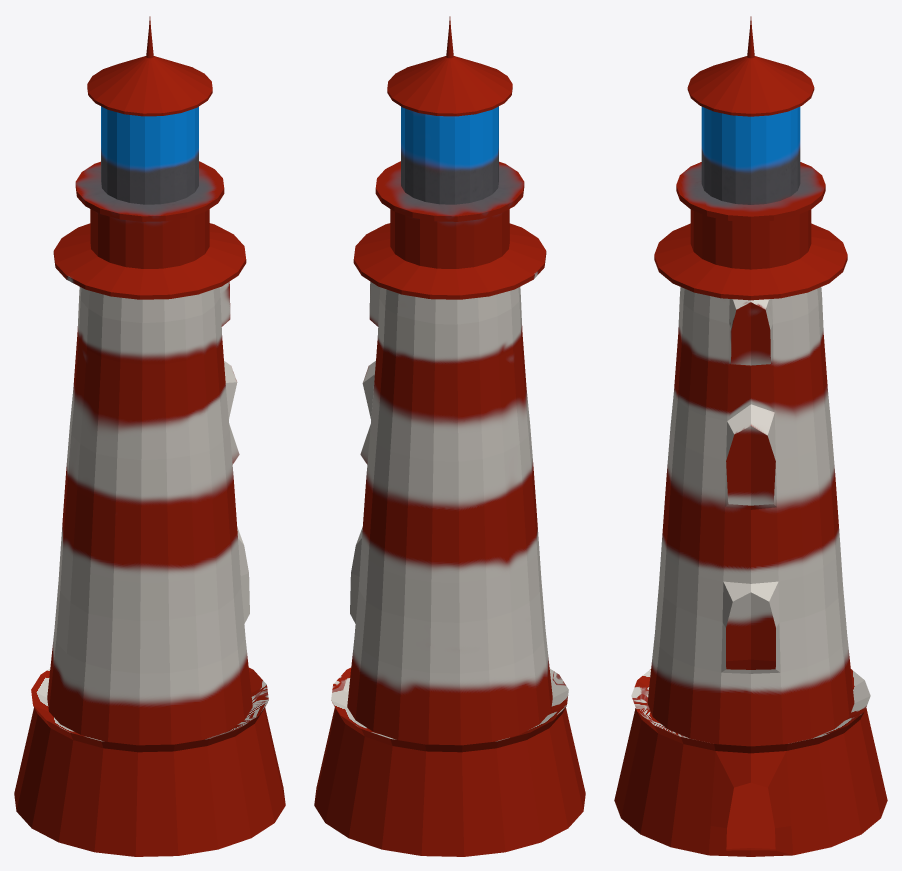
Rendered from faro.obj.
3 renders of one model, left to right at view 1: azimuth 30°, elevation 25°; view 2: azimuth 150°, elevation 25°; view 3: azimuth 270°, elevation 25°, orthographic.
Visible parts, largest first — view 1: pCylinder9; view 2: pCylinder9; view 3: pCylinder9.
Part boxes in pixels (x1=…): pCylinder9: x1=14, y1=16, x2=285, y2=856; pCylinder9: x1=314, y1=16, x2=585, y2=856; pCylinder9: x1=614, y1=16, x2=887, y2=856.
Size of the model in its own units: 82.83 by 266 by 83.78.
